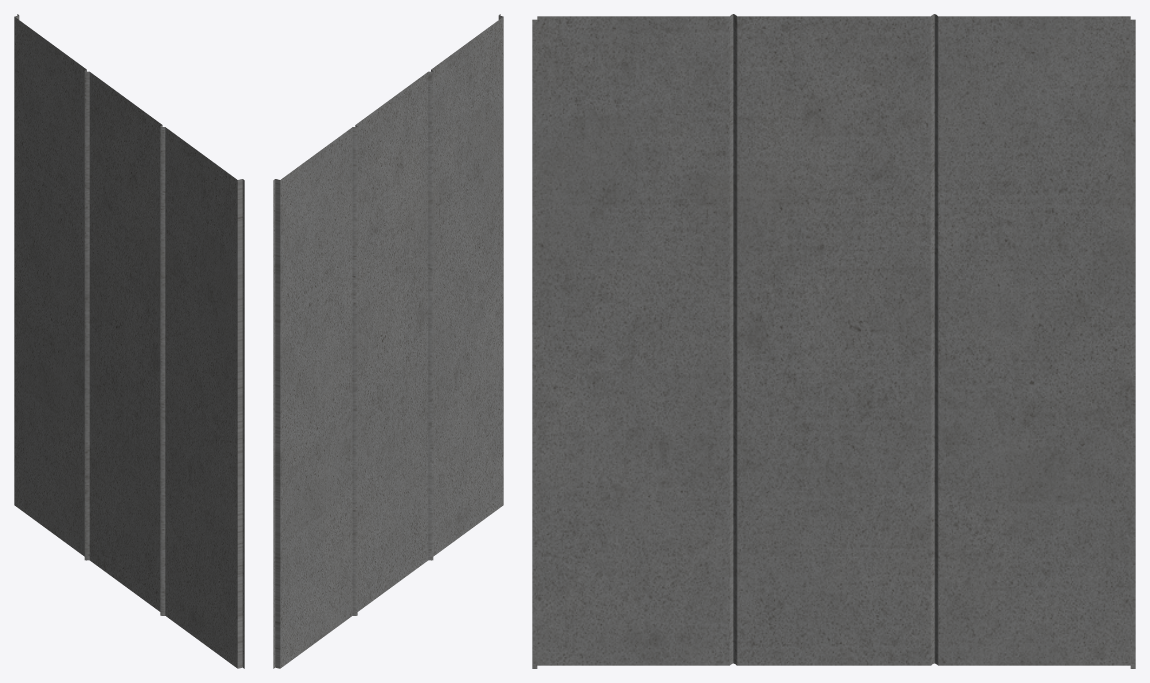
The model's file is ConcreteWall.fbx.
3 renders of one model, left to right at view 1: azimuth 30°, elevation 25°; view 2: azimuth 150°, elevation 25°; view 3: azimuth 270°, elevation 25°, orthographic. The views are drawn at different scales.
Parts seen in each view (by area): view 1: ConcWallStraightLo; view 2: ConcWallStraightLo; view 3: ConcWallStraightLo.
Part boxes in pixels (x1,y1,x2,y2): ConcWallStraightLo: (14,14,244,668); ConcWallStraightLo: (273,14,503,668); ConcWallStraightLo: (532,14,1135,668).
Bounding box in the file's own units: 8.69 × 475 × 400.
